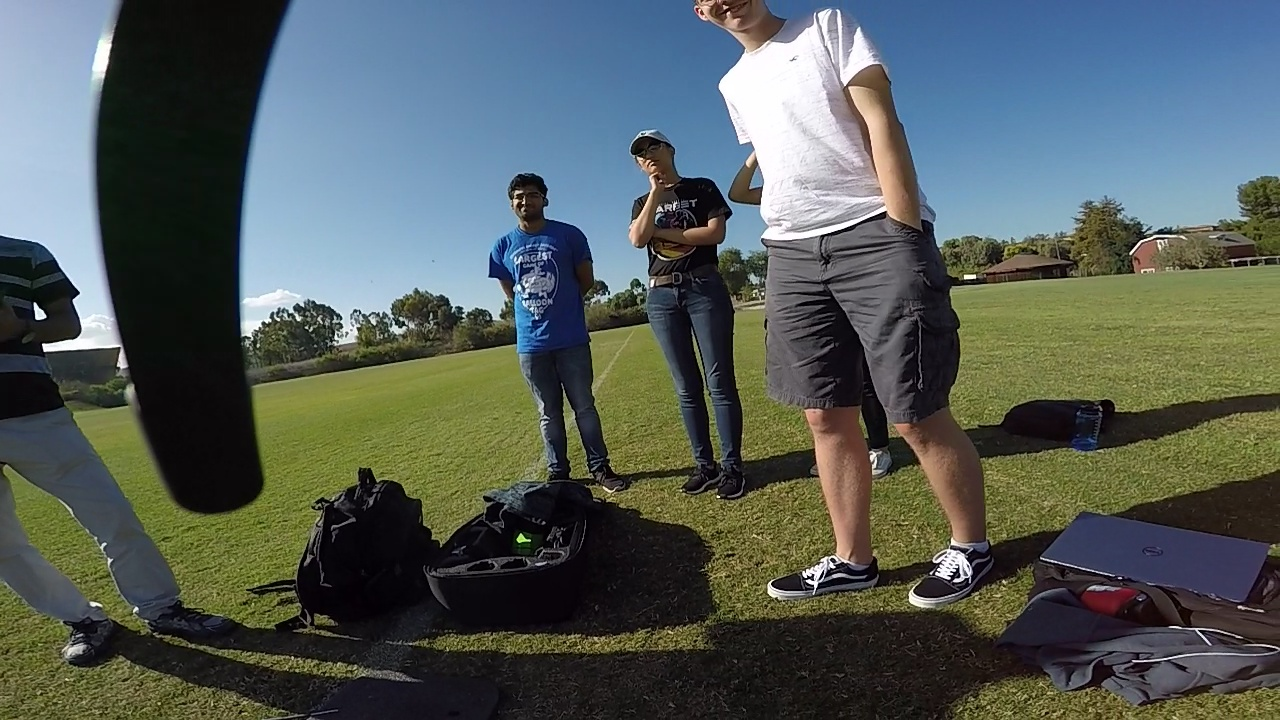person: (693, 2, 998, 619), (0, 224, 224, 656), (478, 164, 626, 495), (619, 129, 744, 495), (0, 463, 103, 653)
